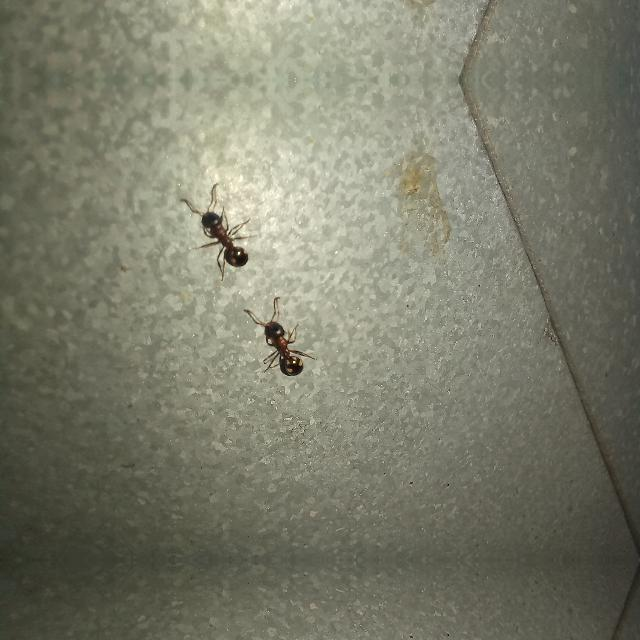Dolichoderus: (184, 194, 264, 278), (244, 306, 318, 382)
